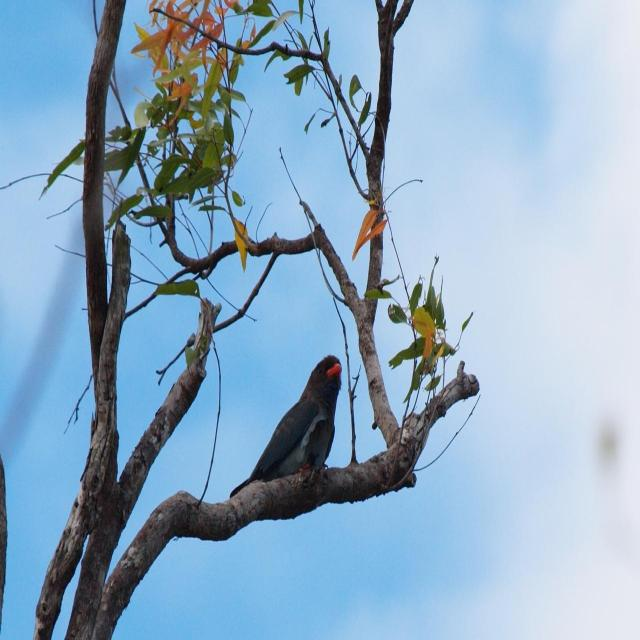bird: (254, 356, 346, 488)
